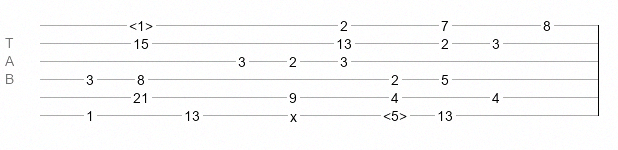1: (86, 108, 94, 118)
13: (184, 108, 200, 118), (336, 36, 352, 46), (437, 108, 453, 118)
15: (133, 36, 149, 46)
2: (289, 54, 297, 64), (340, 18, 348, 28), (391, 72, 399, 82), (441, 36, 449, 46)
21: (133, 90, 149, 100)
3: (86, 72, 94, 82), (238, 54, 246, 64), (340, 54, 348, 64), (492, 36, 500, 46)
4: (391, 90, 399, 100), (492, 90, 500, 100)
5: (441, 72, 449, 82)
7: (441, 18, 449, 28)
8: (137, 72, 145, 82), (543, 18, 551, 28)
9: (289, 90, 297, 100)
harmonic: (129, 18, 153, 28), (383, 108, 407, 118)
x: (290, 109, 297, 117)
